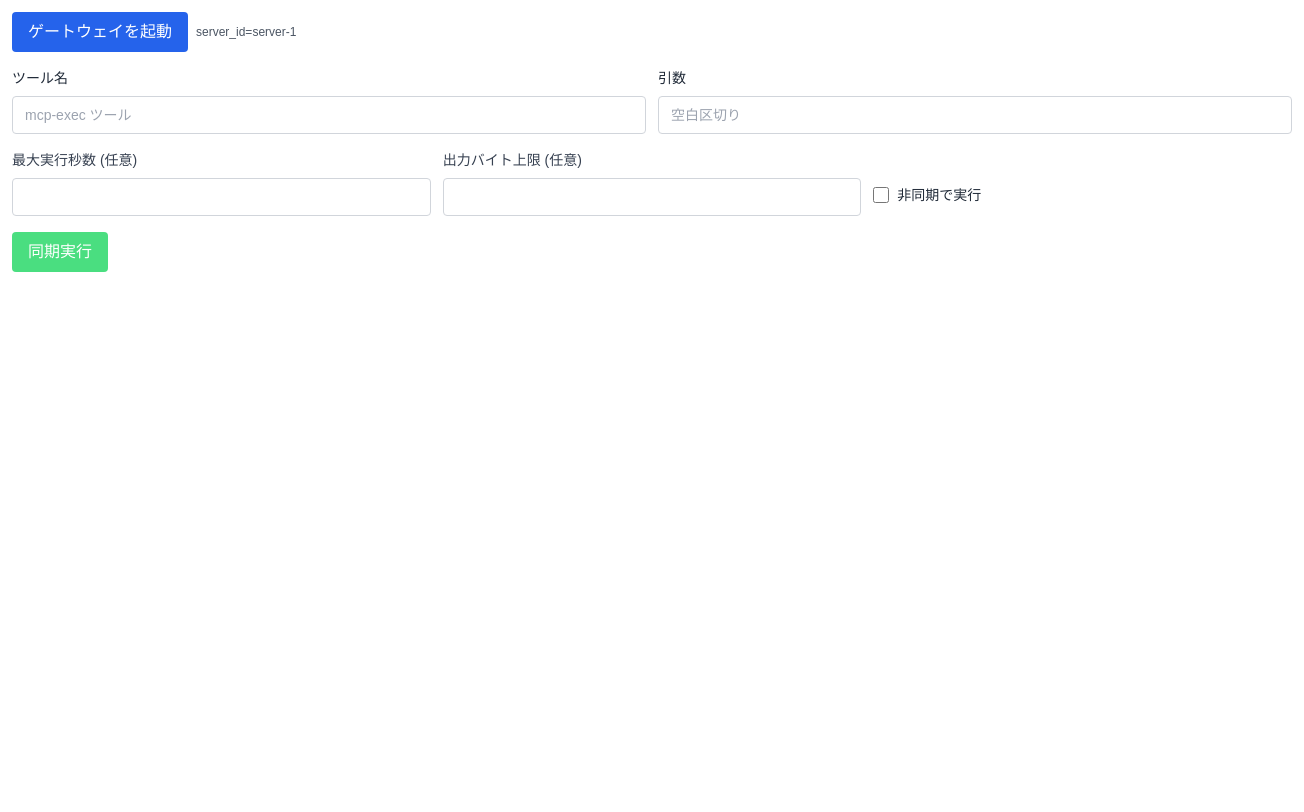
SessionExecutionPanel › polls async job status
Click the button "ゲートウェイを起動": point(100, 32) [12,12,188,52]
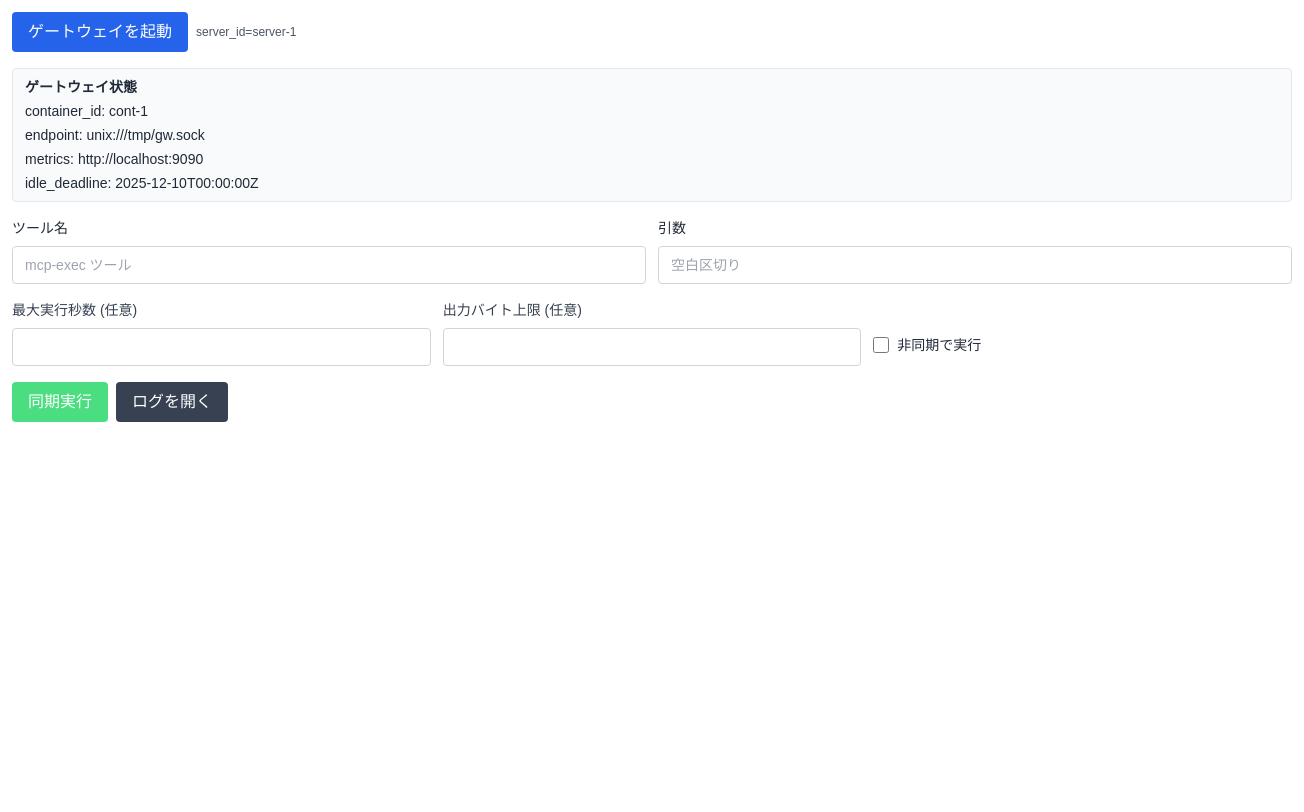
Check: the text "endpoint: unix:///tmp/gw.sock" is shown, box [25,127,205,143]
In the field labelled "ツール名": point(329, 265) [12,246,646,284], type "echo"
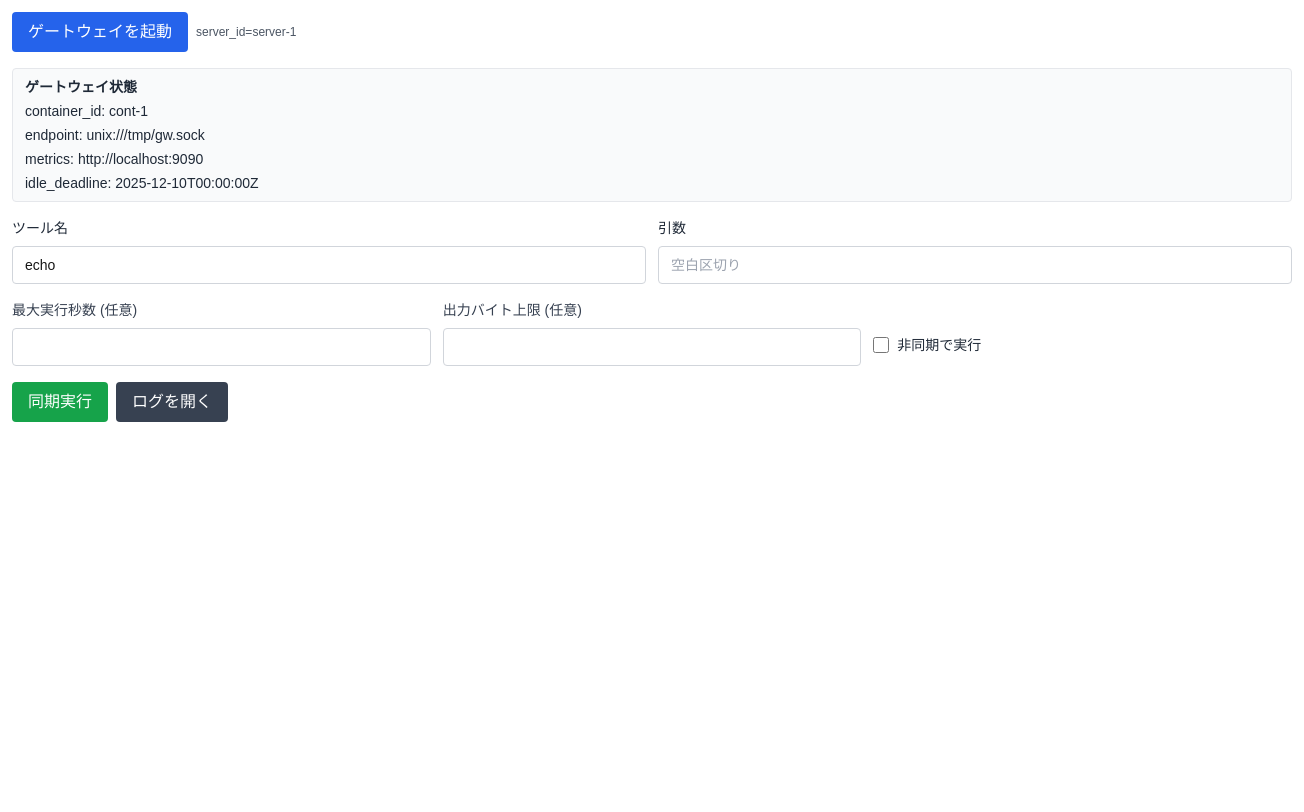
Click the checkbox labelled "非同期で実行": point(881, 345) [873,337,889,353]
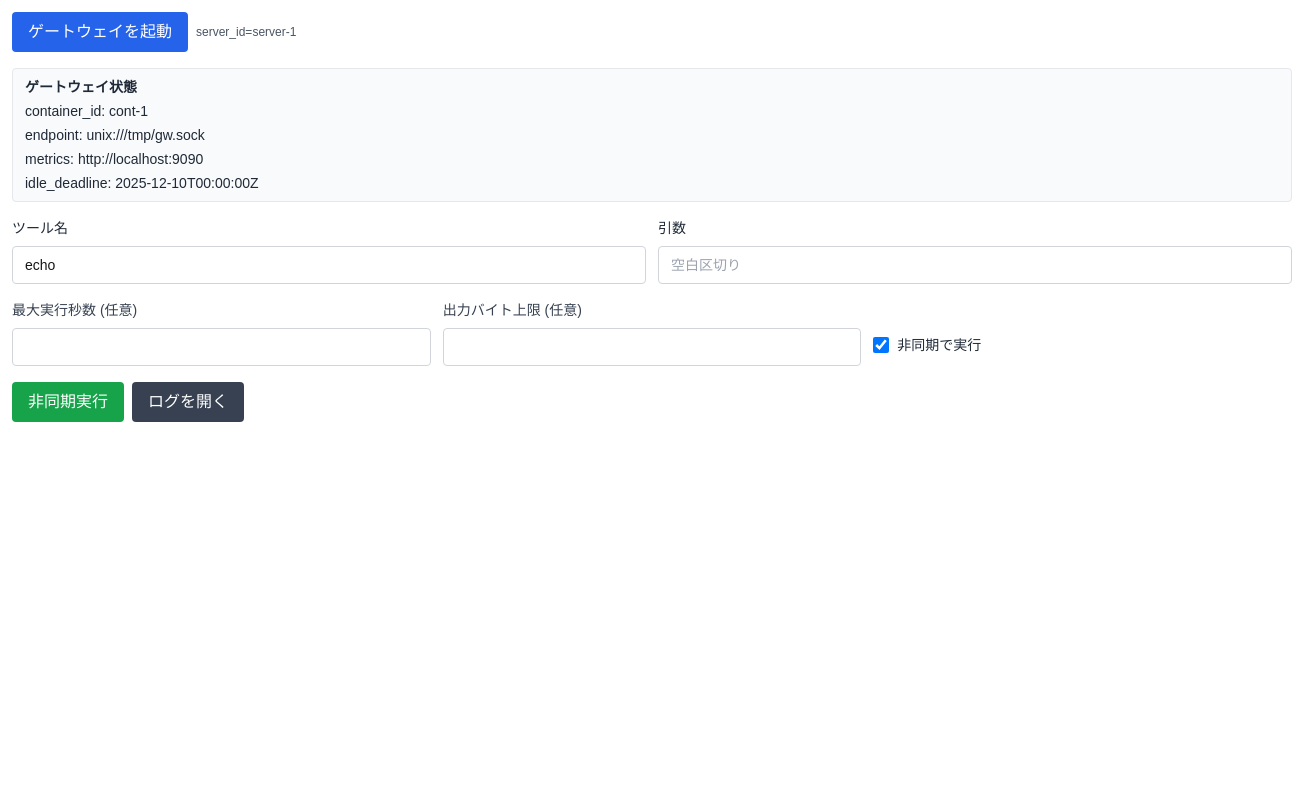
Click the button "非同期実行": point(68, 402) [12,382,124,422]
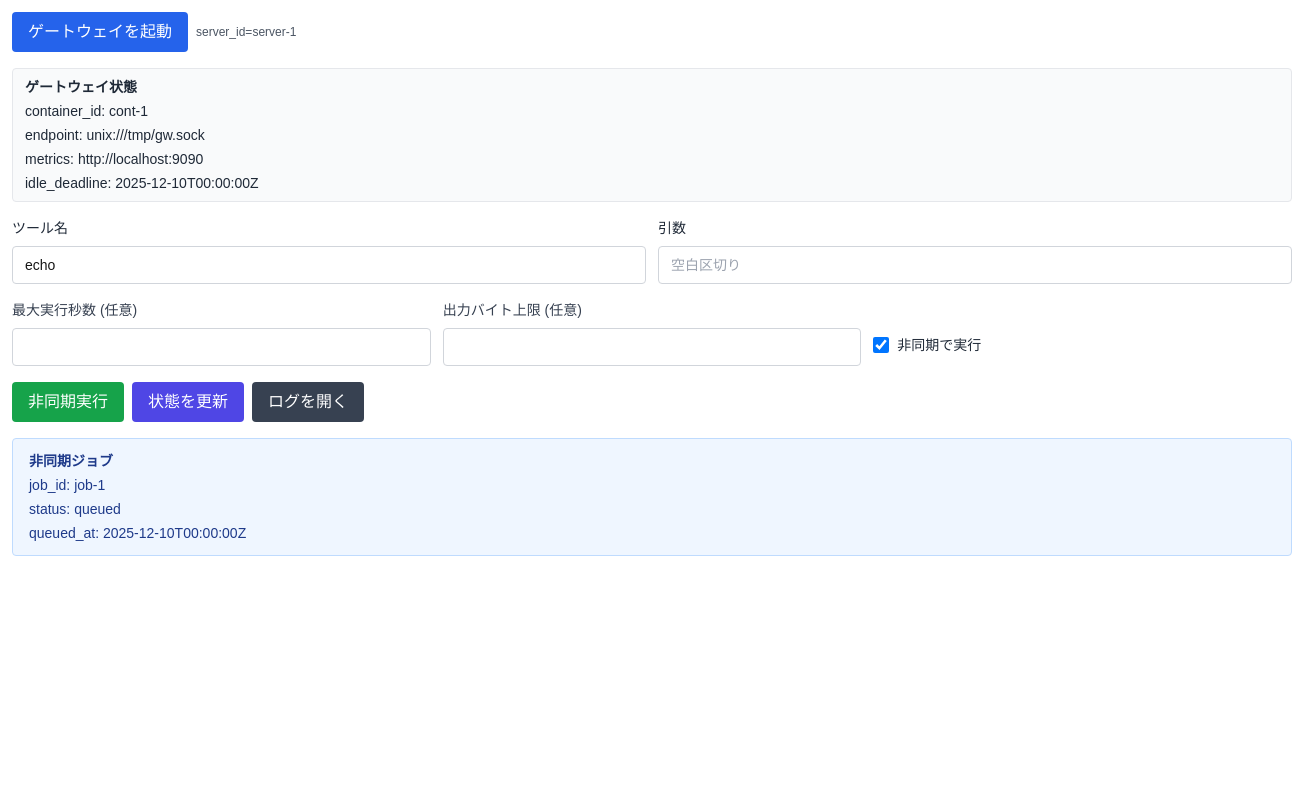
Check: the text "job_id: job-1" is shown, box [29,477,105,493]
Click the button "状態を更新": point(188, 402) [132,382,244,422]
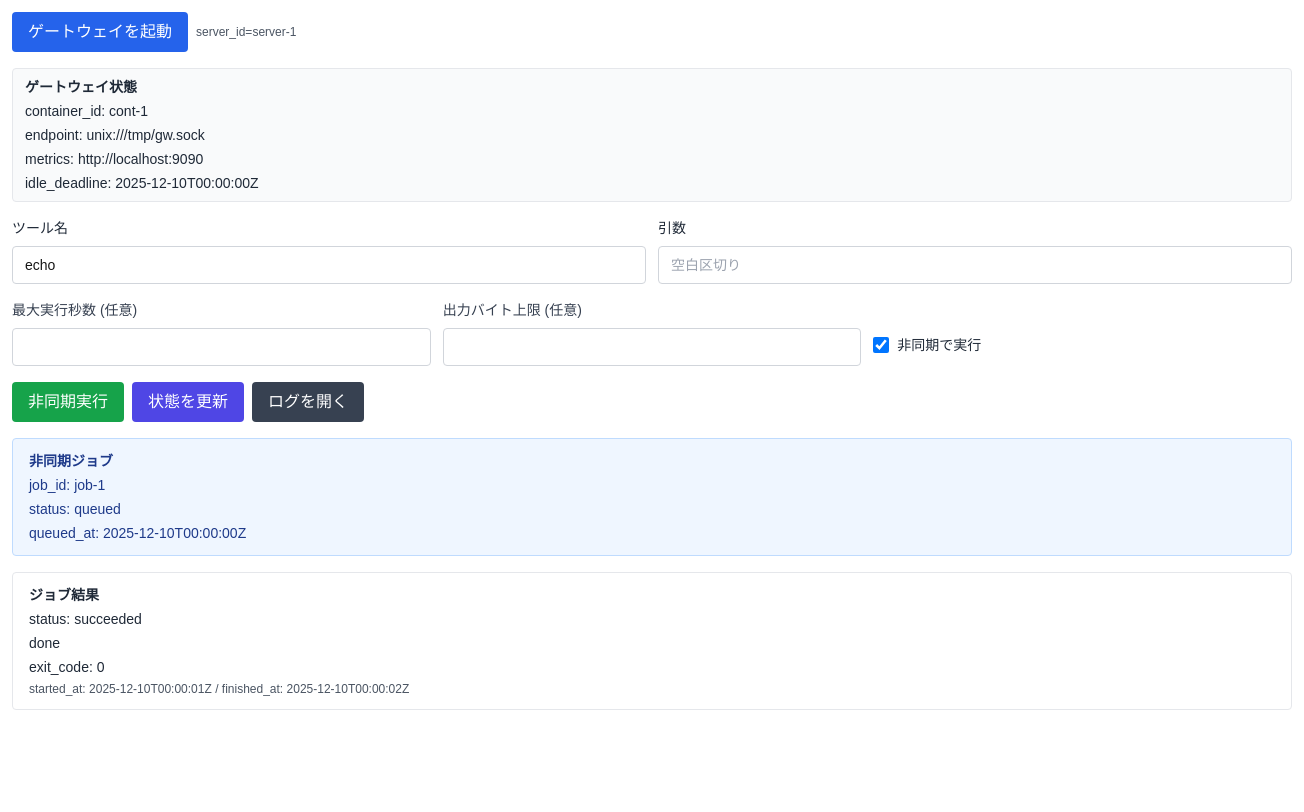
Check: the text "done" is shown, box [29,635,60,651]
